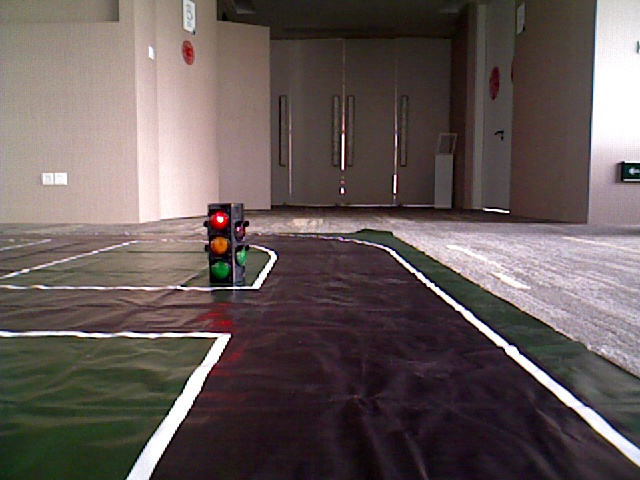red: (207, 205, 232, 282)
